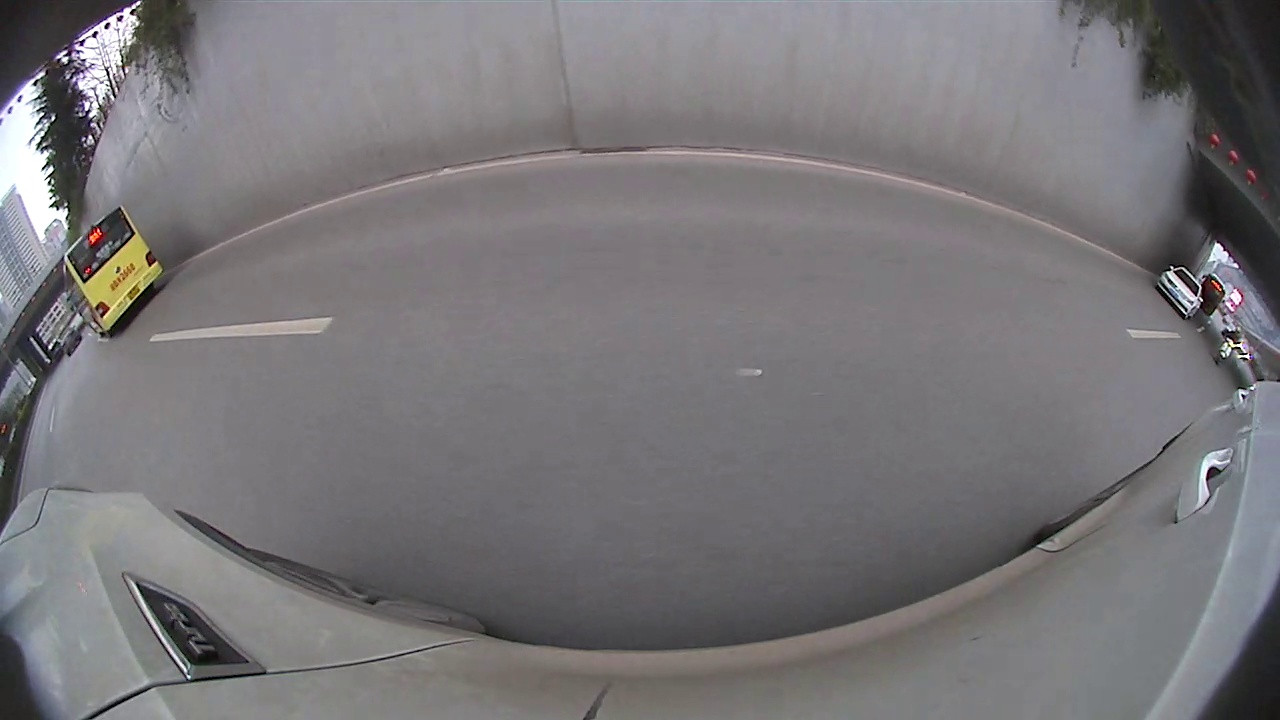bus: (859, 110, 1252, 351)
car: (2, 126, 408, 480), (791, 150, 1010, 259), (464, 145, 562, 211)
front: (366, 223, 409, 281), (793, 188, 814, 219)
rear: (81, 362, 184, 478), (1049, 233, 1099, 288), (869, 204, 906, 250), (526, 181, 543, 207)
truck: (554, 2, 828, 226)
